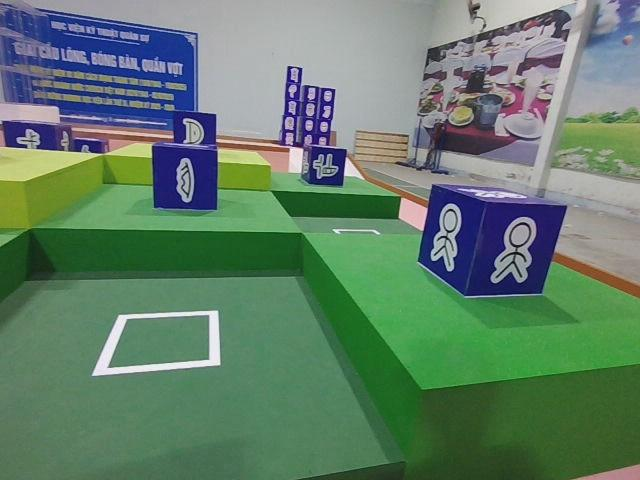R2 Real Blue: (419, 184, 566, 300), (153, 141, 222, 213), (0, 121, 71, 154), (298, 145, 347, 187), (174, 110, 218, 148)
